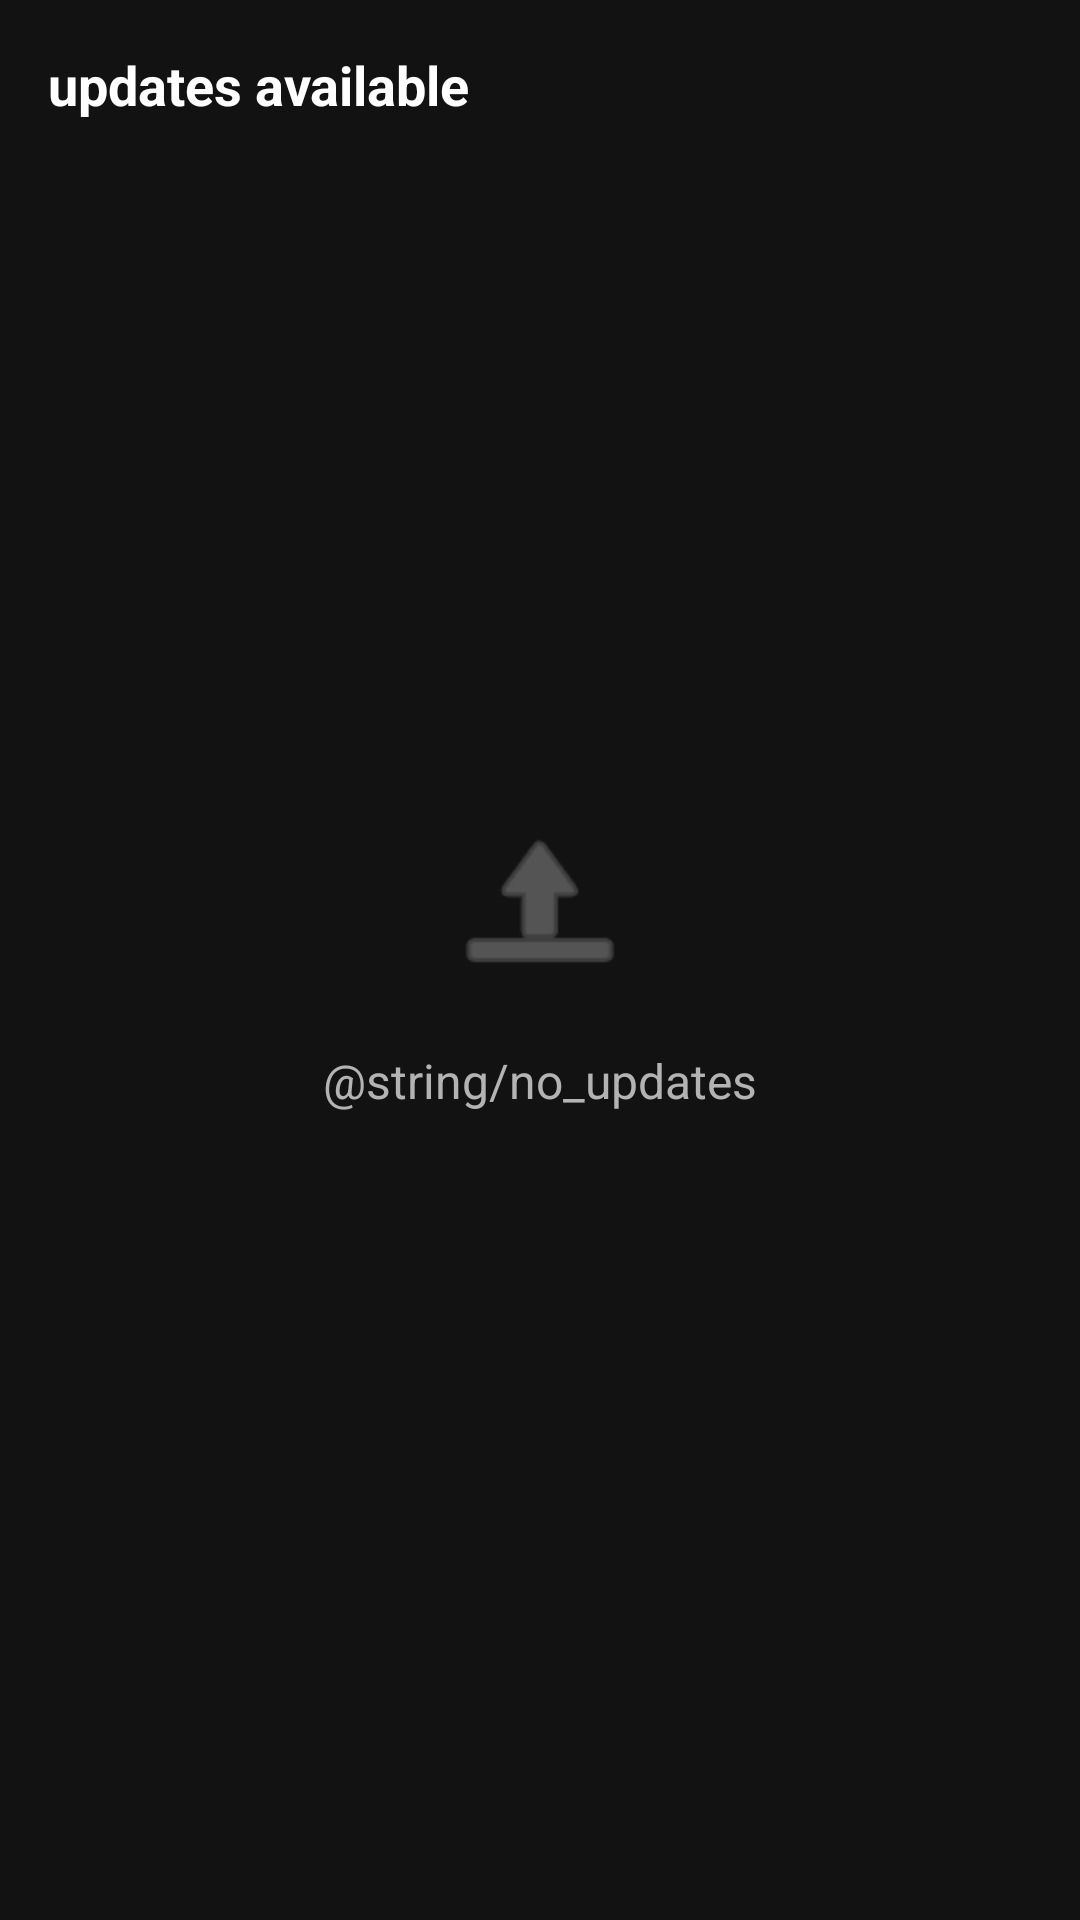

Icons on this 1080px x 1920px Android screen, each with its box as (x1,y1,x2,y2):
upload: (467,841,613,962)
